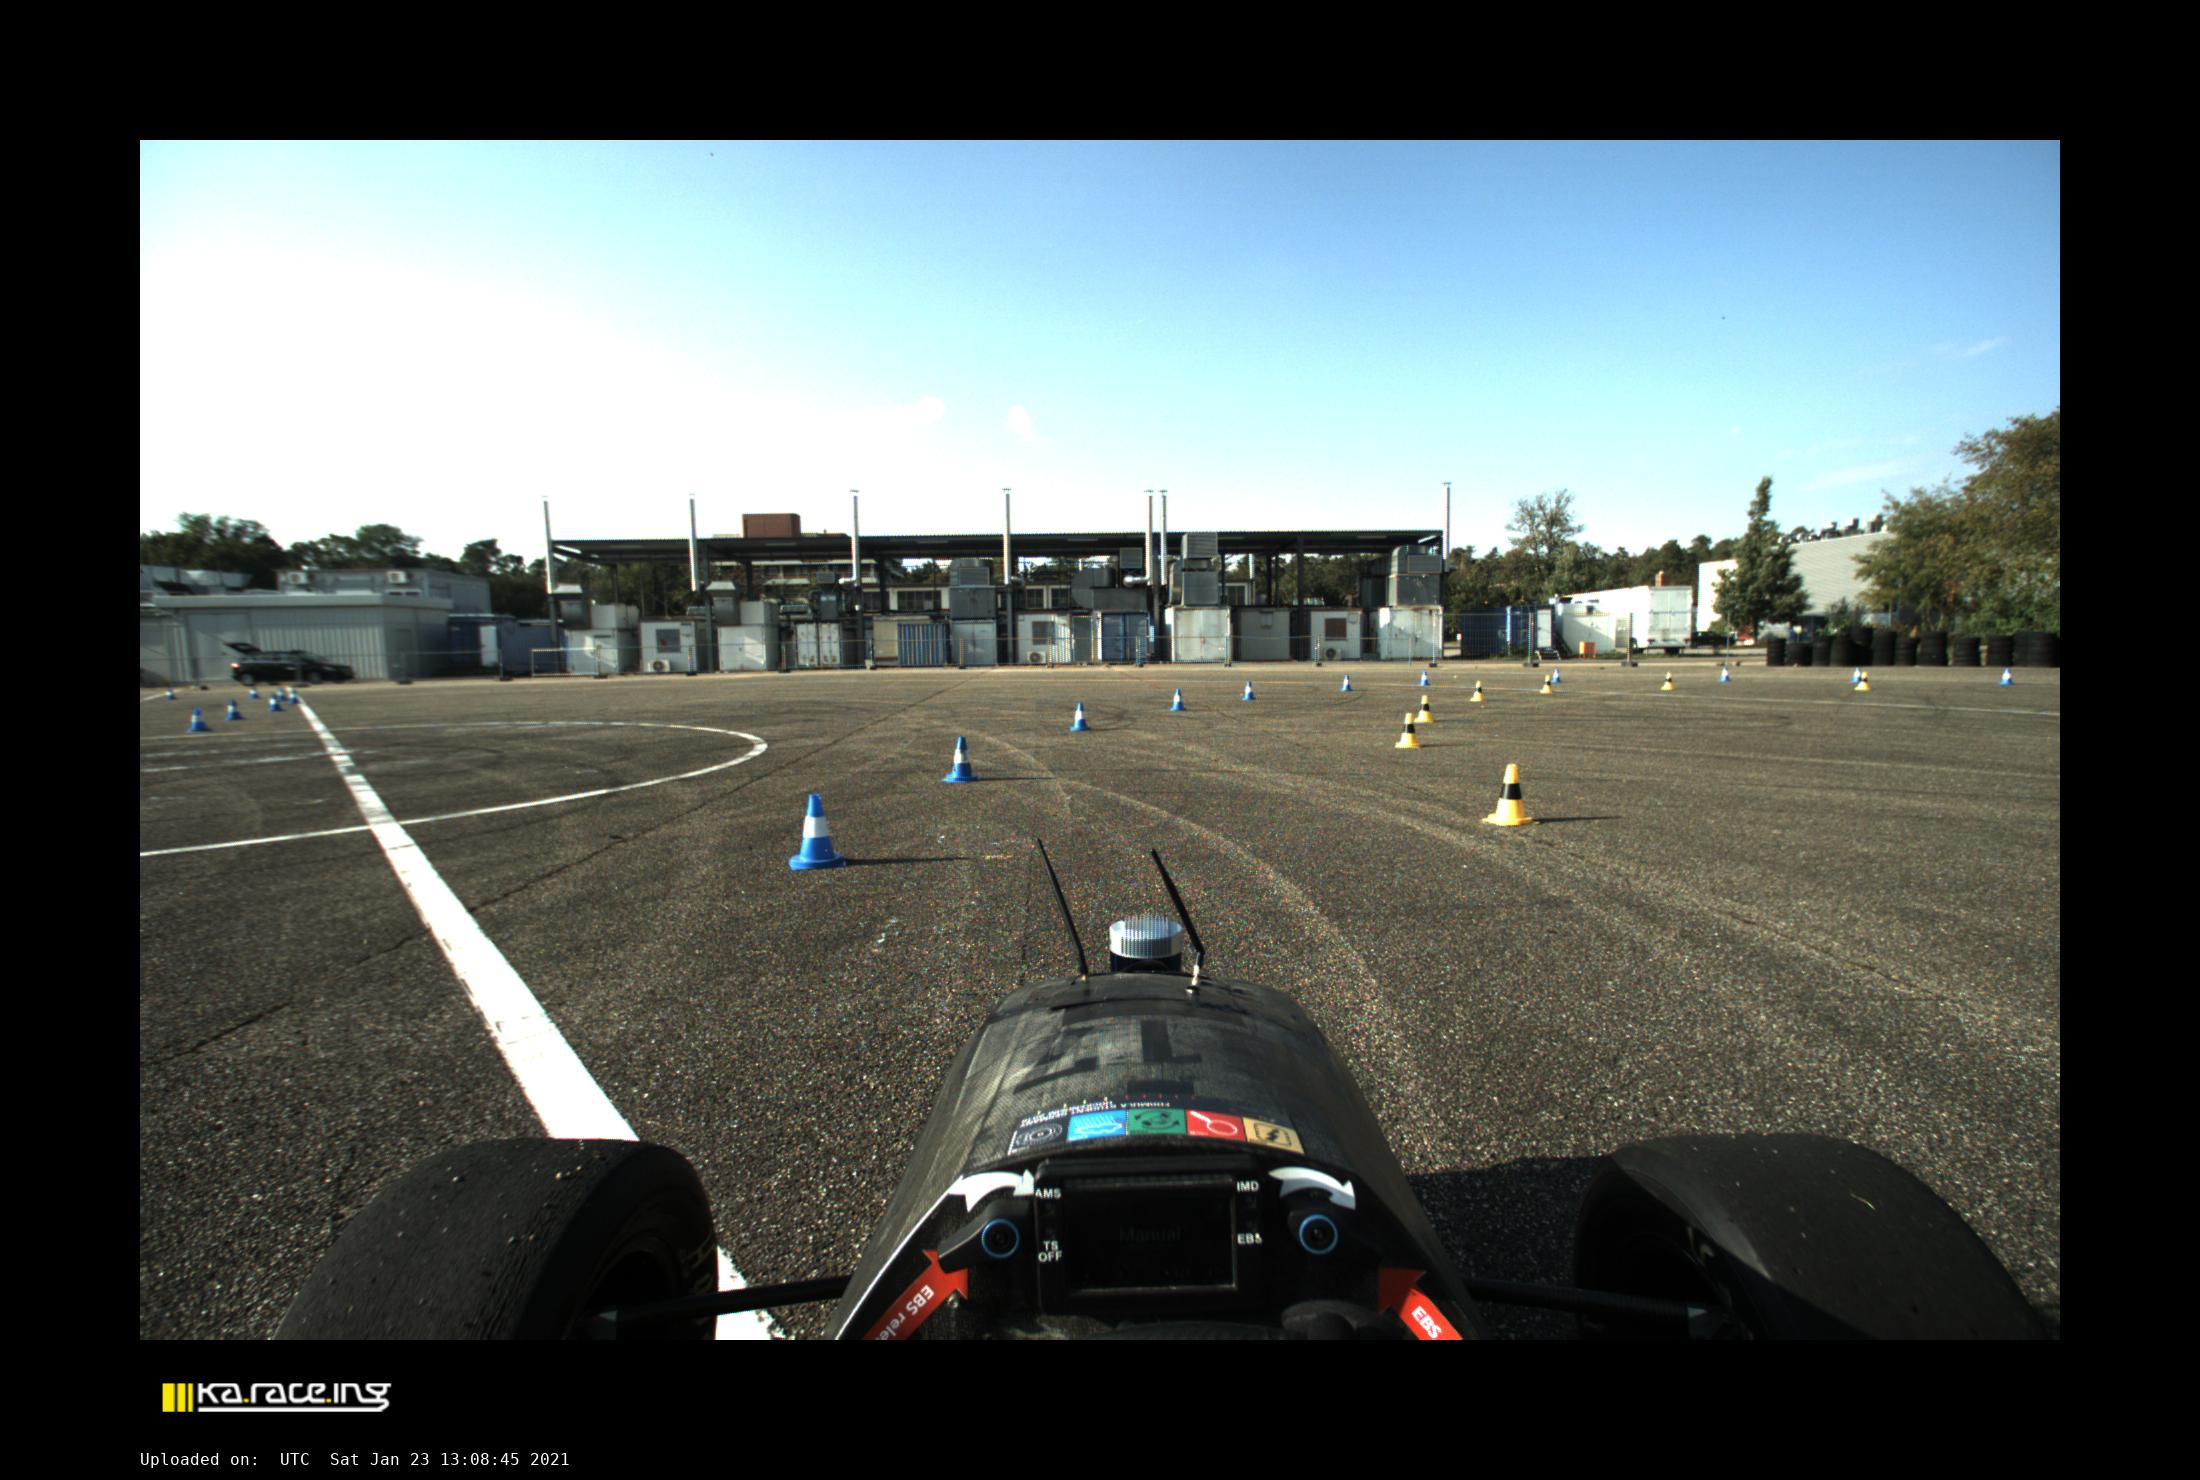blue_cone: (788, 795, 847, 870), (943, 737, 978, 781), (1070, 702, 1092, 732), (187, 707, 211, 732), (225, 699, 244, 720), (1169, 689, 1186, 710), (268, 694, 284, 710), (1998, 667, 2013, 685), (1242, 682, 1255, 700), (1339, 676, 1353, 690), (287, 689, 299, 704), (1719, 667, 1731, 681), (1419, 672, 1430, 685), (1852, 667, 1861, 682), (1551, 669, 1561, 682), (276, 687, 286, 700), (249, 687, 259, 699), (167, 689, 175, 699)
yellow_cone: (1482, 763, 1534, 828), (1396, 714, 1420, 748), (1415, 695, 1434, 722), (1468, 681, 1483, 702), (1855, 672, 1871, 690), (1662, 671, 1675, 690), (1539, 676, 1553, 694)
